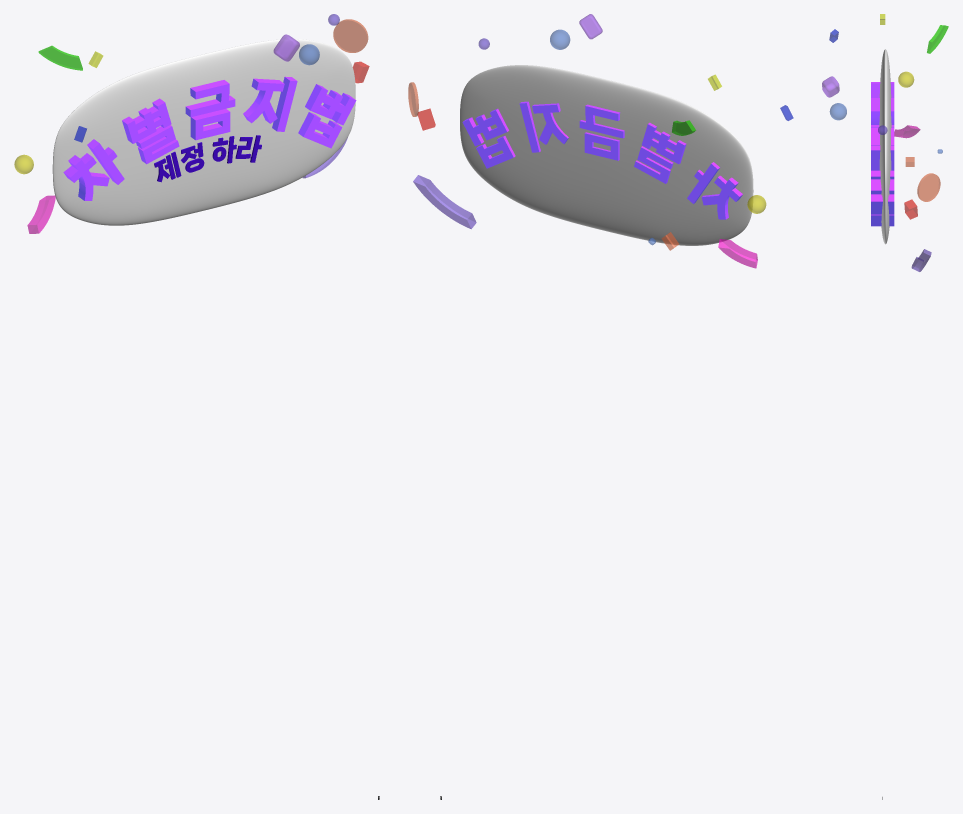
File: cha_.glb
3 renders of one model, left to right at view 1: azimuth 30°, elevation 25°; view 2: azimuth 150°, elevation 25°; view 3: azimuth 270°, elevation 25°, orthographic. The views are drawn at different scales.
Visible parts, largest first — view 1: Plane, Body47, Body44, Body46, Body40, Body43, Body39, Body41, Body56, Body42, Body38, Body45; view 2: Plane, Body55, Body47, Body44, Body39, Body40, Body46, Body43, Body41, Body42; view 3: Plane, Body47, Body56, Body46, Body38, Body48, Body1, Body55.
Boxes of the visible parts, x1,y1,x2,y2 form: Plane: (52,39,355,225); Body47: (305,84,356,125); Body44: (122,98,171,143); Body46: (185,80,235,117); Body40: (63,153,109,200); Body43: (243,78,284,123); Body39: (136,125,179,164); Body41: (190,109,230,140); Body56: (333,19,368,52); Body42: (298,112,342,148); Body38: (272,76,297,131); Body45: (87,139,124,184); Plane: (460,65,753,245); Body55: (413,175,476,229); Body47: (462,108,508,146); Body44: (641,122,686,164); Body39: (634,146,673,183); Body40: (701,175,742,219); Body46: (579,104,624,138); Body43: (532,103,568,144); Body41: (584,132,619,160); Body42: (476,136,515,168); Plane: (879,49,891,244); Body47: (871,170,894,214); Body56: (917,173,940,201); Body46: (871,98,894,127); Body38: (871,145,894,170); Body48: (927,25,948,53); Body1: (822,76,839,97); Body55: (911,249,931,271).
Bounding box in the file's own units: 1.04 × 2.25 × 0.3844.
